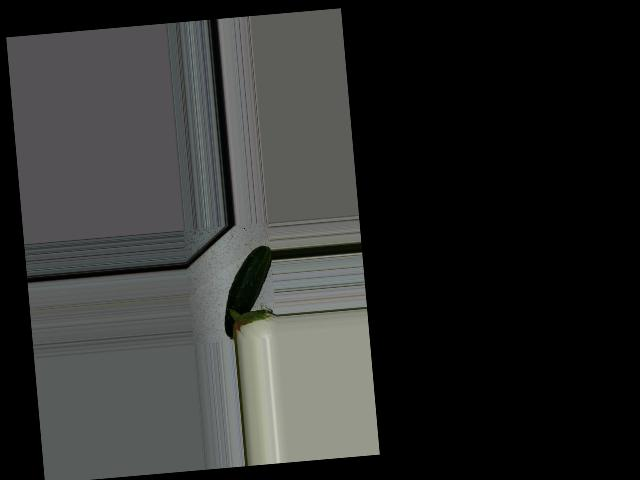cucumber: (218, 244, 278, 339)
